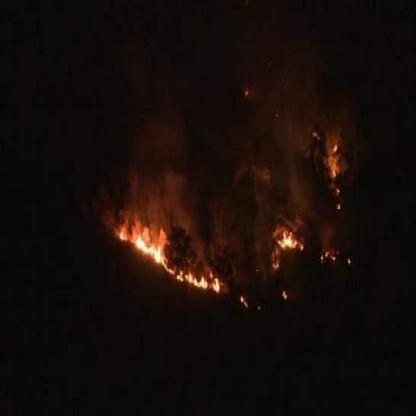fire: (114, 204, 219, 300), (274, 222, 303, 254), (325, 134, 341, 178)
